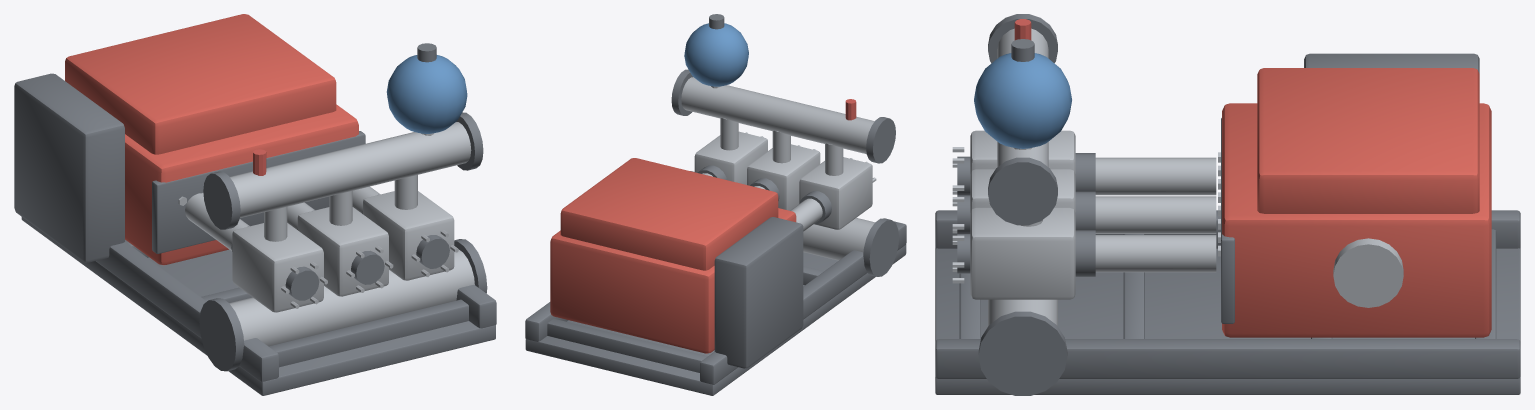
File: pump.glb
3 renders of one model, left to right at view 1: azimuth 30°, elevation 25°; view 2: azimuth 150°, elevation 25°; view 3: azimuth 270°, elevation 25°, orthographic. The views are drawn at different scales.
Visible parts, largest first — view 1: pump; view 2: pump; view 3: pump.
Part boxes in pixels (x1,y1,x2,y2): pump: [14, 14, 496, 395]; pump: [525, 14, 906, 395]; pump: [935, 14, 1520, 395].
Size of the model in its own units: 3.2 by 3.13 by 5.
